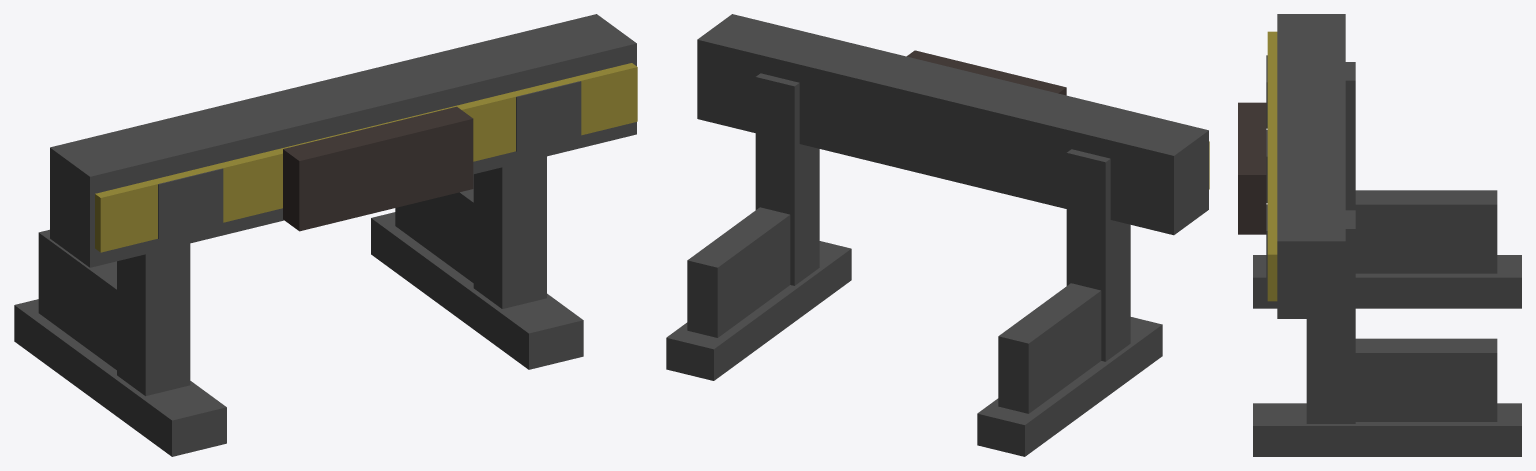
3 views of the same model, side by side, from view 1: azimuth 30°, elevation 25°; view 2: azimuth 150°, elevation 25°; view 3: azimuth 270°, elevation 25° (orthographic). The views are drawn at different scales.
Visible parts, largest first — view 1: 490; view 2: 490; view 3: 490.
Boxes of the visible parts, <box> form: 490: <box>14,14,637,456</box>; 490: <box>666,14,1209,456</box>; 490: <box>1238,14,1521,456</box>.
Bounding box in the file's own units: 2.2 × 1.1 × 1.16.
